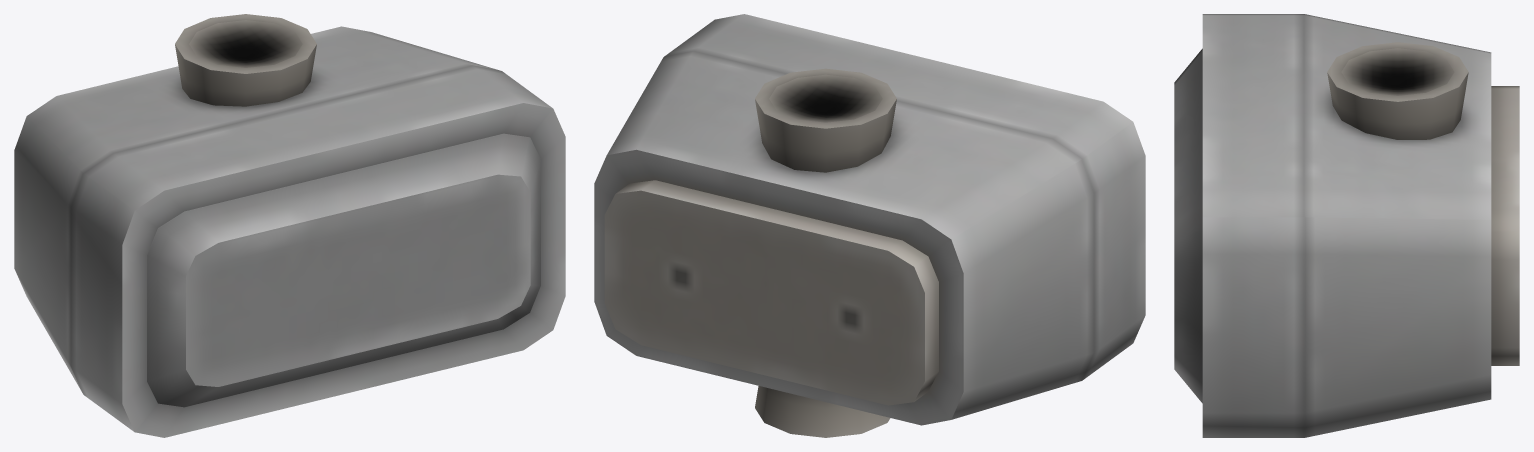
File: Tantares_MOE_3.obj
The picture shows the model from 3 angles, left to right: view 1: azimuth 30°, elevation 25°; view 2: azimuth 150°, elevation 25°; view 3: azimuth 270°, elevation 25°; orthographic projection.
Visible parts, largest first — view 1: Tantares_MOE_3; view 2: Tantares_MOE_3; view 3: Tantares_MOE_3.
Boxes of the visible parts, x1,y1,x2,y2 form: Tantares_MOE_3: (14,14,565,437); Tantares_MOE_3: (594,14,1145,437); Tantares_MOE_3: (1174,14,1519,437).
Bounding box in the file's own units: 0.225 × 0.15 × 0.1525.
